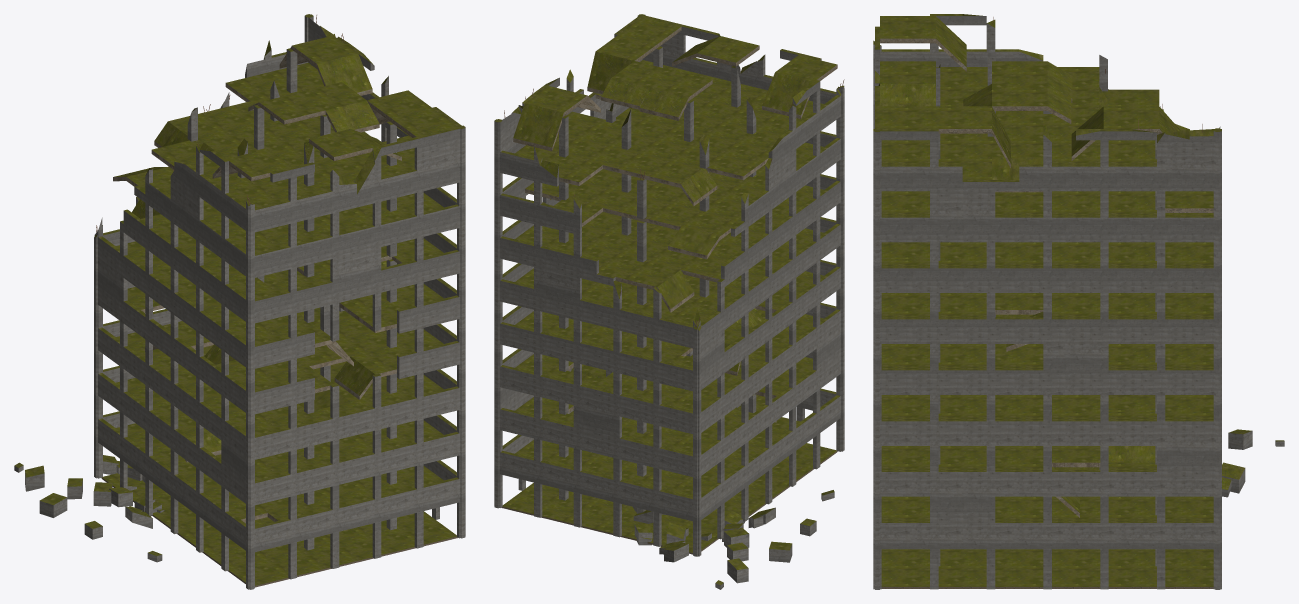
Rendered from bld_d.gltf.
The picture shows the model from 3 angles, left to right: view 1: azimuth 30°, elevation 25°; view 2: azimuth 150°, elevation 25°; view 3: azimuth 270°, elevation 25°; orthographic projection. The views are drawn at different scales.
Visible parts, largest first — view 1: bld_d; view 2: bld_d; view 3: bld_d.
Boxes of the visible parts, x1,y1,x2,y2 form: bld_d: (14,14,465,589); bld_d: (494,14,844,589); bld_d: (873,14,1284,589).
Size of the model in its own units: 22.22 by 30.96 by 24.18.
